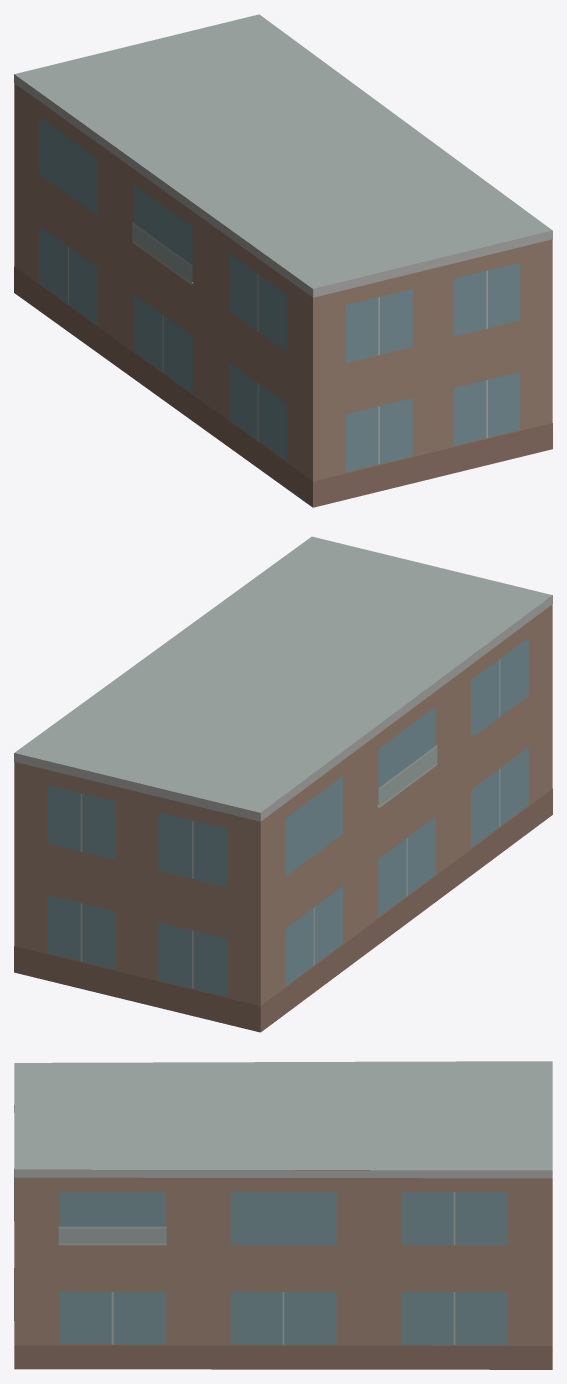
File: survey-upis-33043005.glb
3 views of the same model, one above another, from view 1: azimuth 30°, elevation 25°; view 2: azimuth 150°, elevation 25°; view 3: azimuth 270°, elevation 25° (orthographic). The views are drawn at different scales.
Visible parts, largest first — view 1: survey-upis-33043005.tmp; view 2: survey-upis-33043005.tmp; view 3: survey-upis-33043005.tmp.
Part boxes in pixels (x1,y1,x2,y2): survey-upis-33043005.tmp: (14, 14, 552, 507); survey-upis-33043005.tmp: (14, 536, 552, 1032); survey-upis-33043005.tmp: (14, 1061, 552, 1369).
Size of the model in its own units: 7.18 by 6.1 by 14.94.
